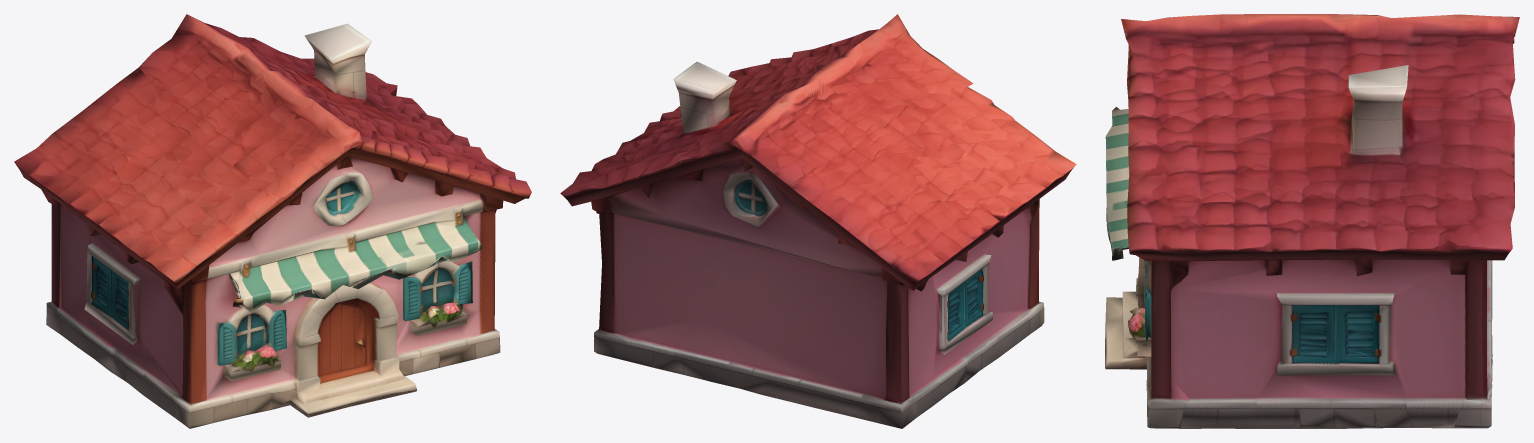
Rendered from market-salmon.glb.
The picture shows the model from 3 angles, left to right: view 1: azimuth 30°, elevation 25°; view 2: azimuth 150°, elevation 25°; view 3: azimuth 270°, elevation 25°; orthographic projection. The views are drawn at different scales.
Visible parts, largest first — view 1: market-salmon; view 2: market-salmon; view 3: market-salmon.
Boxes of the visible parts, x1,y1,x2,y2 form: market-salmon: [14, 14, 531, 428]; market-salmon: [560, 14, 1076, 428]; market-salmon: [1105, 14, 1519, 428].
Size of the model in its own units: 8.8 by 6.2 by 7.2.
1 material, 1 textured.
